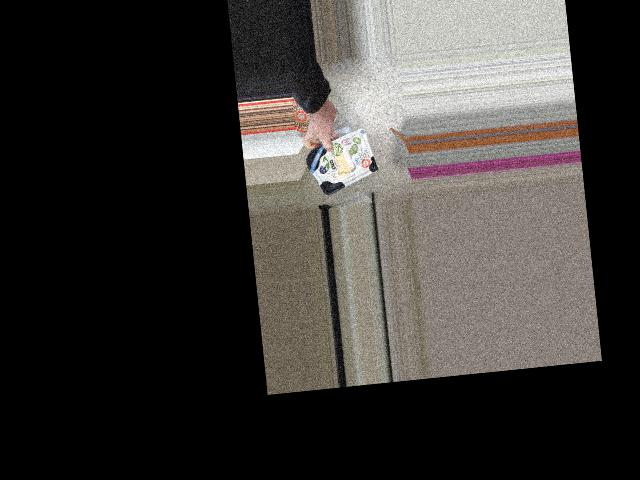cheese: (306, 133, 378, 187)
